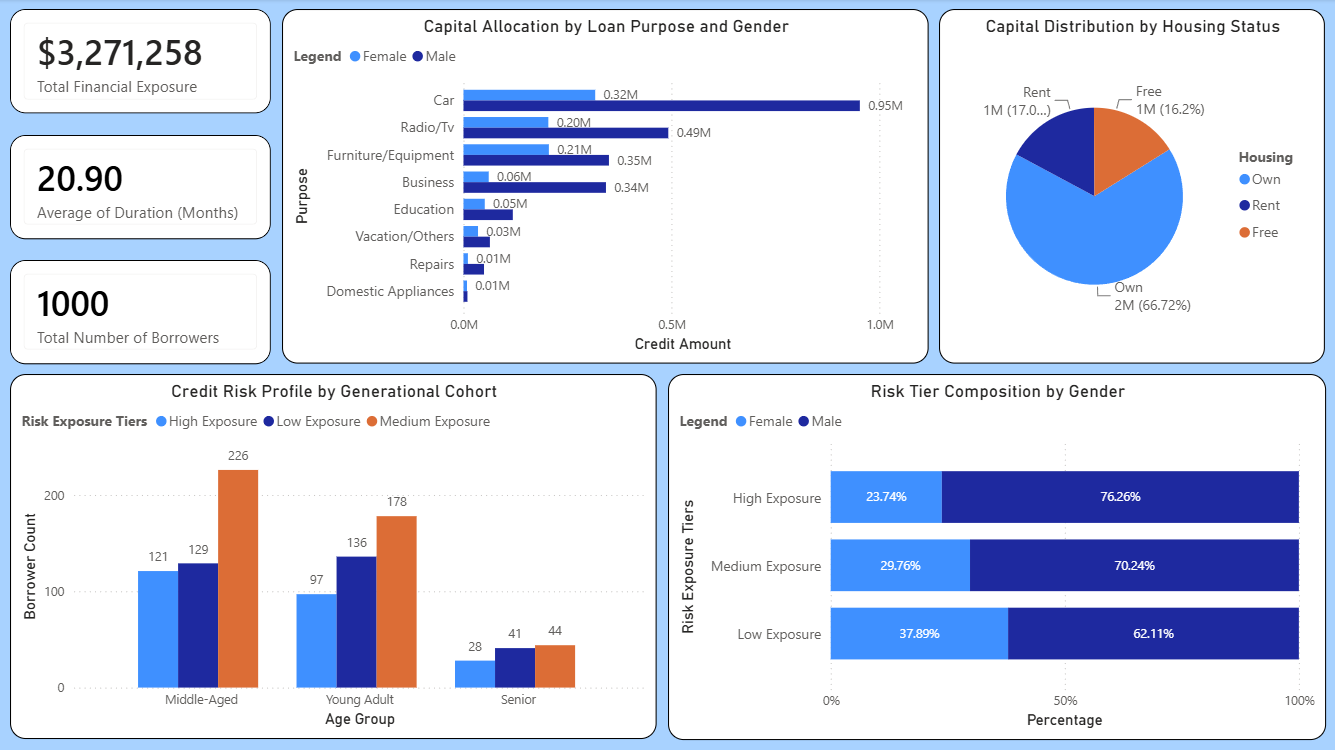

The dashboard page shown, as its layout file describes it:
{"tool":"powerbi","page":{"name":"Page 1","canvas":[1280,720],"ordinal":0},"visuals":[{"type":"clusteredColumnChart","title":"Credit Risk Profile by Generational Cohort","fields":{"Category":["german_credit_data_clean.Age Group"],"Series":["german_credit_data_clean.Risk Exposure Tiers"],"Y":["CountNonNull(german_credit_data_clean.Age)"]},"box":[10,360,620,350],"z":0},{"type":"cardVisual","fields":{"Data":["Sum(german_credit_data_clean.Credit Amount)"]},"box":[10,10,250,100],"z":1000},{"type":"cardVisual","fields":{"Data":["Avg(german_credit_data_clean.Duration)"]},"box":[9.6,130.4,250.2,99.7],"z":2000},{"type":"clusteredBarChart","title":"Capital Allocation by Loan Purpose and Gender","fields":{"Y":["Sum(german_credit_data_clean.Credit Amount)"],"Category":["german_credit_data_clean.Purpose"],"Series":["german_credit_data_clean.Sex"]},"box":[270.4,10,620,340],"z":3000},{"type":"cardVisual","fields":{"Data":["CountNonNull(german_credit_data_clean.Age)"]},"box":[9.6,250.2,250.2,99.7],"z":4000},{"type":"hundredPercentStackedBarChart","title":"Risk Tier Composition by Gender","fields":{"Y":["Sum(german_credit_data_clean.Credit Amount)"],"Series":["german_credit_data_clean.Sex"],"Category":["german_credit_data_clean.Risk Exposure Tiers"]},"box":[640,359.6,630.9,350.9],"z":5000},{"type":"pieChart","title":"Capital Distribution by Housing Status","fields":{"Category":["german_credit_data_clean.Housing"],"Y":["Sum(german_credit_data_clean.Credit Amount)"]},"box":[900,10,370.1,340],"z":6000}]}

Visuals, with their boxes in screenshot pixels (x1, y1, x2, y2), scaled from the page's 1280x720 canvas onto the 1335x750 screenshot:
"Credit Risk Profile by Generational Cohort" clusteredColumnChart: bbox(10, 375, 657, 740)
cardVisual - Sum(german_credit_data_clean.Credit Amount): bbox(10, 10, 271, 115)
cardVisual - Avg(german_credit_data_clean.Duration): bbox(10, 136, 271, 240)
"Capital Allocation by Loan Purpose and Gender" clusteredBarChart: bbox(282, 10, 929, 365)
cardVisual - CountNonNull(german_credit_data_clean.Age): bbox(10, 261, 271, 364)
"Risk Tier Composition by Gender" hundredPercentStackedBarChart: bbox(668, 375, 1326, 740)
"Capital Distribution by Housing Status" pieChart: bbox(939, 10, 1325, 365)
